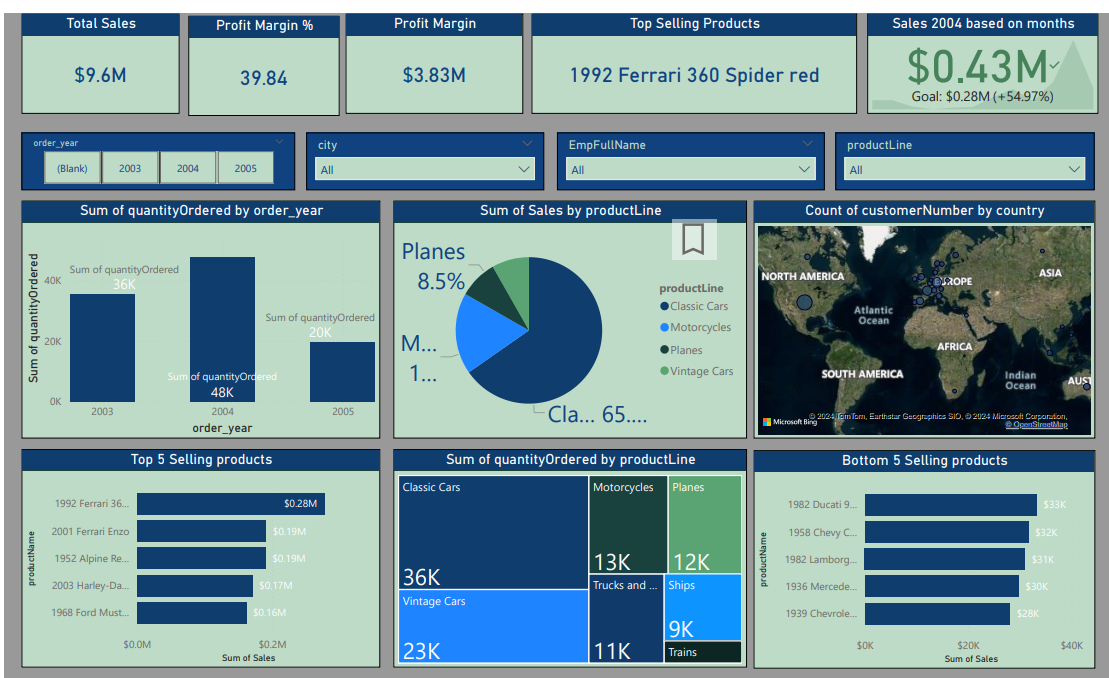

The page's visual inventory and layout, read from the dashboard file:
{"tool":"powerbi","page":{"name":"Page 1","canvas":[1280,720],"ordinal":0},"visuals":[{"type":"card","title":"Profit Margin","fields":{"Values":["Order Details.Total_profit"]},"box":[401,0,209,118],"z":0},{"type":"card","title":"Top Selling Products","fields":{"Values":["Customers.mostorderedproduct"]},"box":[620,0,383,118],"z":1000},{"type":"clusteredBarChart","title":"Top 5 Selling products","fields":{"Y":["Order Details.Sales"],"Category":["Products.productName"]},"box":[20,513,422,257],"z":2000},{"type":"pieChart","fields":{"Category":["Products.productLine"],"Y":["Order Details.Sales"]},"box":[457,220,416,280],"z":3000},{"type":"slicer","fields":{"Values":["Orders.order_year"]},"box":[20,140,322,68],"z":4000},{"type":"kpi","title":"Sales 2004 based on months","fields":{"Indicator":["Orders.Sales_2004"],"Goal":["Orders.Sales2003"],"TrendLine":["Orders.Month Name"]},"box":[1015,0,272,118],"z":5000},{"type":"map","fields":{"Size":["Customers.customerNumber"],"Category":["Customers.country"]},"box":[881.7,220,401.7,280],"z":6000},{"type":"treemap","fields":{"Group":["Productlines.productLine"],"Values":["Order Details.quantityOrdered"]},"box":[457,513,416,257],"z":7000},{"type":"columnChart","fields":{"Category":["Orders.order_year"],"Y":["Order Details.quantityOrdered"]},"box":[20,220,422,280],"z":8000},{"type":"card","title":"Profit Margin %","fields":{"Values":["Orders.profit_Margin_%"]},"box":[216,2,178,118],"z":9000},{"type":"card","title":"Total Sales","fields":{"Values":["Order Details.Sales"]},"box":[20,0,186,118],"z":10000},{"type":"slicer","fields":{"Values":["Offices.city"]},"box":[355,140,280,68.3],"z":11000},{"type":"slicer","fields":{"Values":["Employees.EmpFullName"]},"box":[650,140,315,68.3],"z":12000},{"type":"slicer","fields":{"Values":["Productlines.productLine"]},"box":[978,140,305,68],"z":13000},{"type":"clusteredBarChart","title":"Bottom 5 Selling products","fields":{"Y":["Order Details.Sales"],"Category":["Products.productName"]},"box":[881.7,513.3,401.7,256.7],"z":14000},{"type":"actionButton","box":[785.7,240.7,52,48.1],"z":15000}]}

Visuals, with their boxes on the page's 1280x720 design canvas (x1, y1, x2, y2). These are canvas units, not pixel positions in the 1109x678 screenshot, which may show the page scaled, cropped or inside an application window:
"Profit Margin" card: [x1=401, y1=0, x2=610, y2=118]
"Top Selling Products" card: [x1=620, y1=0, x2=1003, y2=118]
"Top 5 Selling products" clusteredBarChart: [x1=20, y1=513, x2=442, y2=770]
pieChart - Products.productLine x Order Details.Sales: [x1=457, y1=220, x2=873, y2=500]
slicer - Orders.order_year: [x1=20, y1=140, x2=342, y2=208]
"Sales 2004 based on months" kpi: [x1=1015, y1=0, x2=1287, y2=118]
map - Customers.customerNumber x Customers.country: [x1=882, y1=220, x2=1283, y2=500]
treemap - Productlines.productLine x Order Details.quantityOrdered: [x1=457, y1=513, x2=873, y2=770]
columnChart - Orders.order_year x Order Details.quantityOrdered: [x1=20, y1=220, x2=442, y2=500]
"Profit Margin %" card: [x1=216, y1=2, x2=394, y2=120]
"Total Sales" card: [x1=20, y1=0, x2=206, y2=118]
slicer - Offices.city: [x1=355, y1=140, x2=635, y2=208]
slicer - Employees.EmpFullName: [x1=650, y1=140, x2=965, y2=208]
slicer - Productlines.productLine: [x1=978, y1=140, x2=1283, y2=208]
"Bottom 5 Selling products" clusteredBarChart: [x1=882, y1=513, x2=1283, y2=770]
actionButton: [x1=786, y1=241, x2=838, y2=289]
